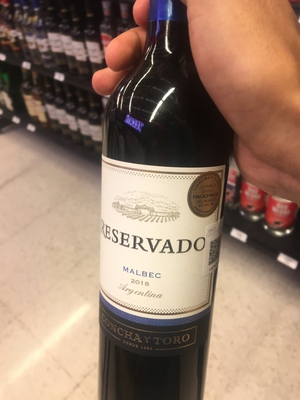reservado malbec: (90, 7, 231, 400)
